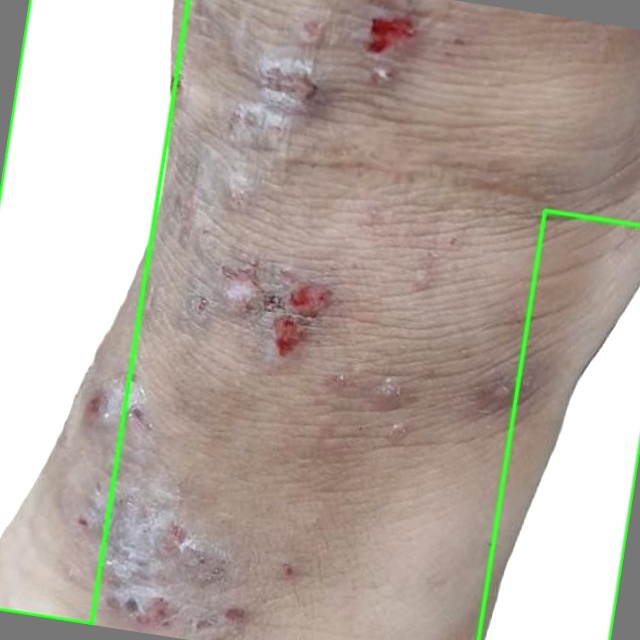Eczema: (0, 0, 187, 623), (478, 210, 639, 639)
